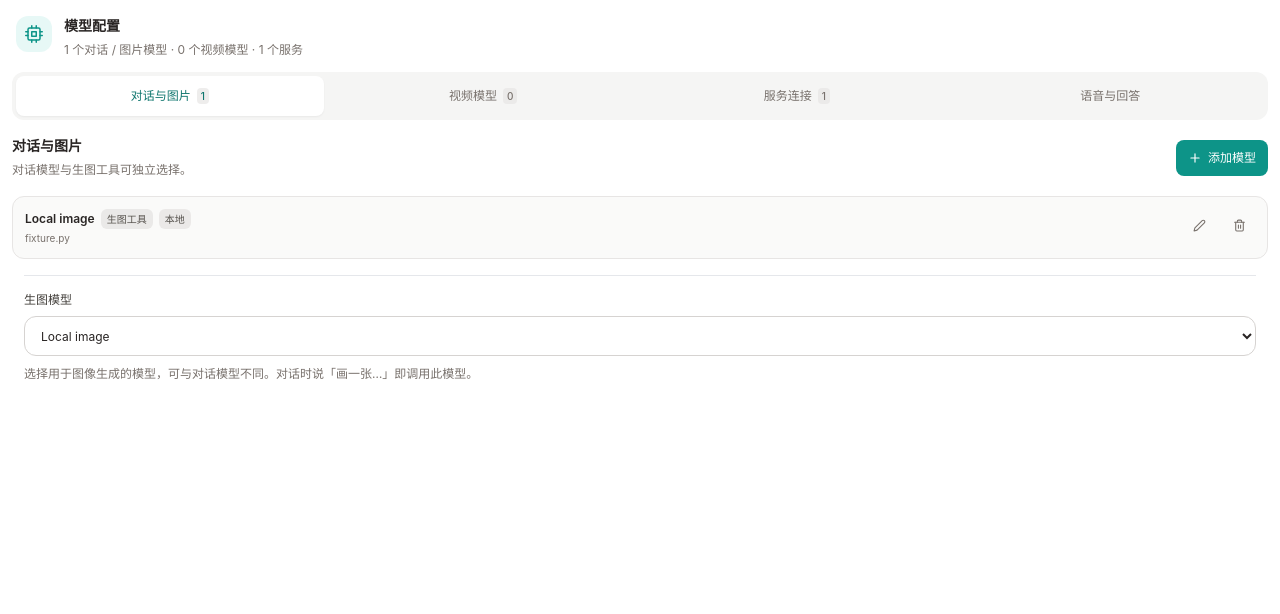
it: unified model settings › hides irrelevant chat connections for a local image script
Click the button named "编辑".
click(1199, 225)  # box [1183,209,1215,241]
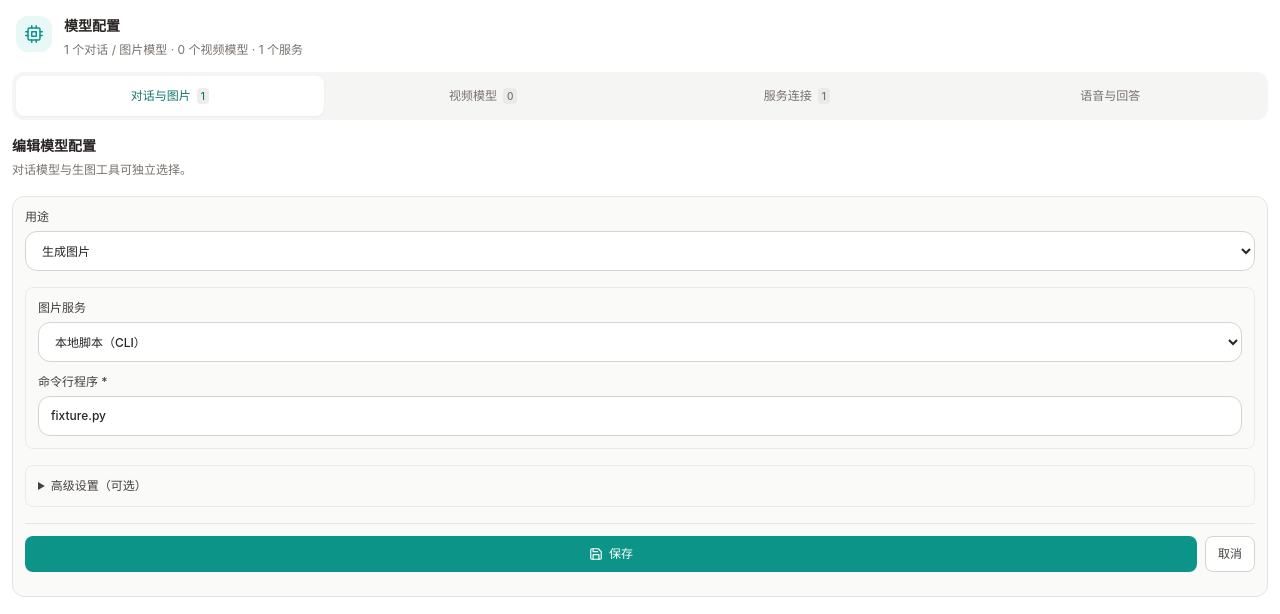
Check: the field showing "fixture.py" is shown, box [38,396,1242,436]
